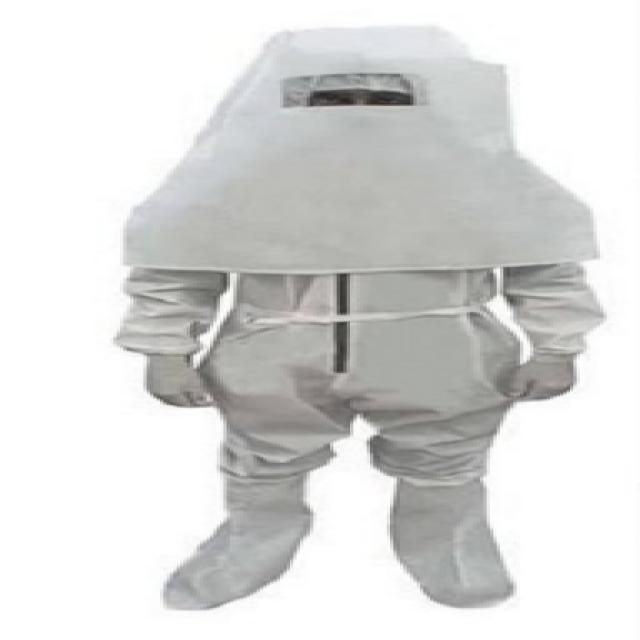Coverall: (97, 22, 523, 640)
Gloves: (117, 407, 189, 479), (429, 416, 497, 479)
